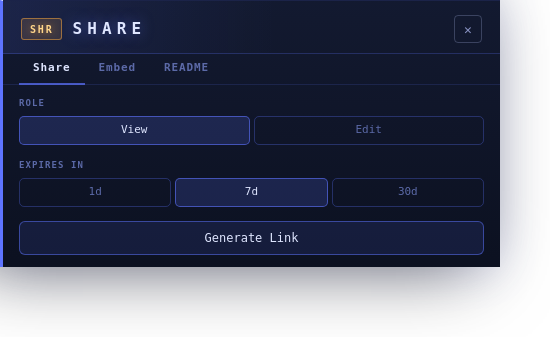
Test: ShareDialog – public toggle › keeps the generic message when the server sends none
Click the button with class "tab-btn" showing "README" at (186, 69), box [150, 54, 223, 84]
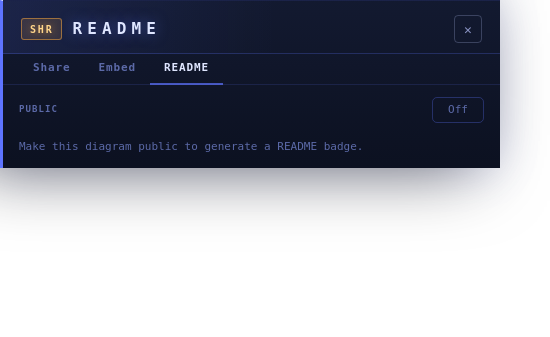
Click the button "Off" at (458, 110), box [432, 96, 484, 123]
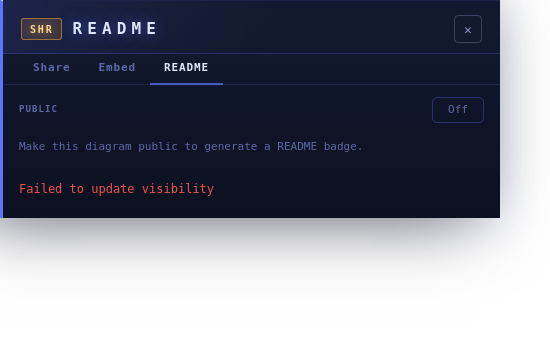
Check: the text "Failed to update visibility" is shown, box [19, 182, 214, 196]
